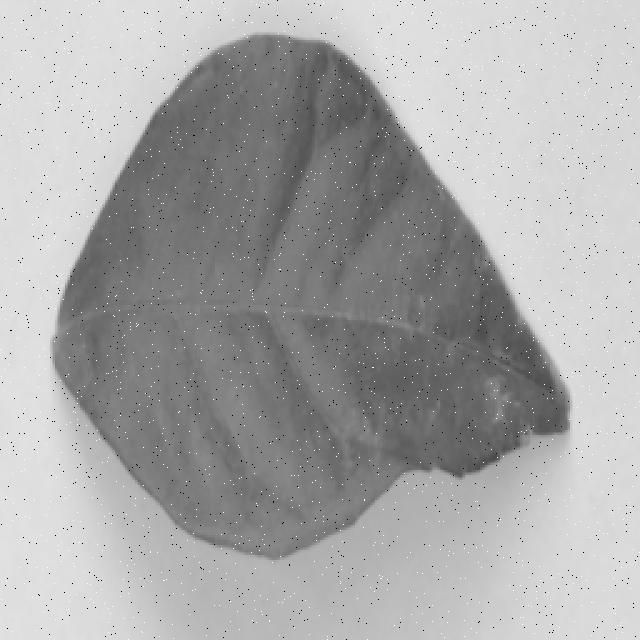healthy: (49, 31, 570, 566)
